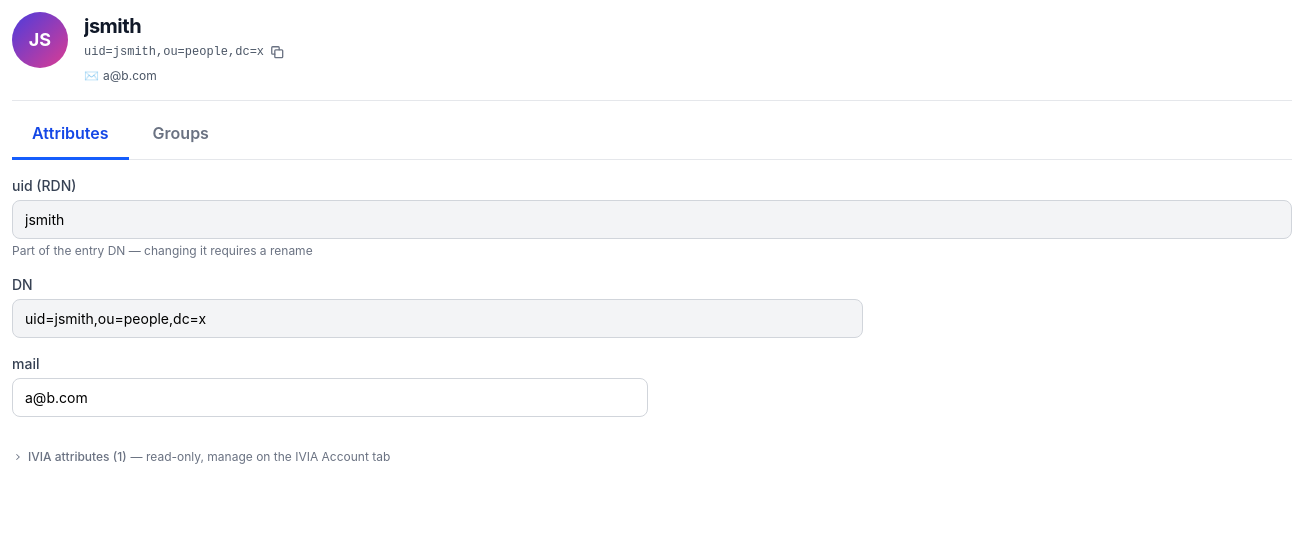
Scenario: UserForm validation › renders IVIA enrichment attributes collapsed by default, read-only when expanded
Check: the text "ivia.seclogin" is not shown
Click the button that starts with "IVIA attributes (1)".
click(201, 457)  # box [12,449,390,465]
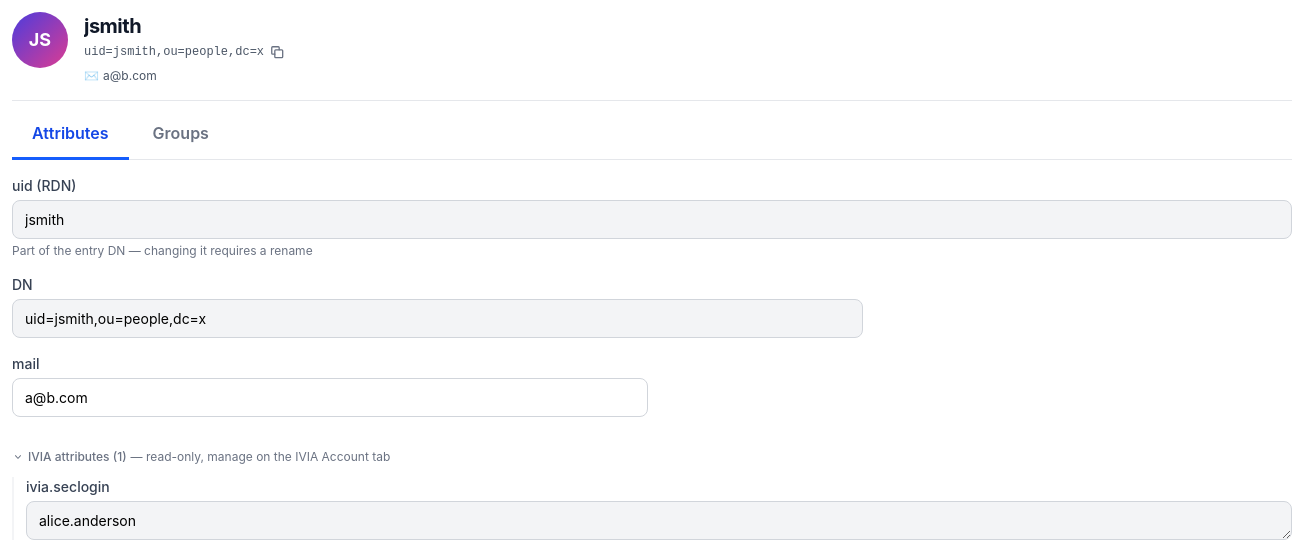
Check: the text "ivia.seclogin" is shown, box [26,477,110,497]
